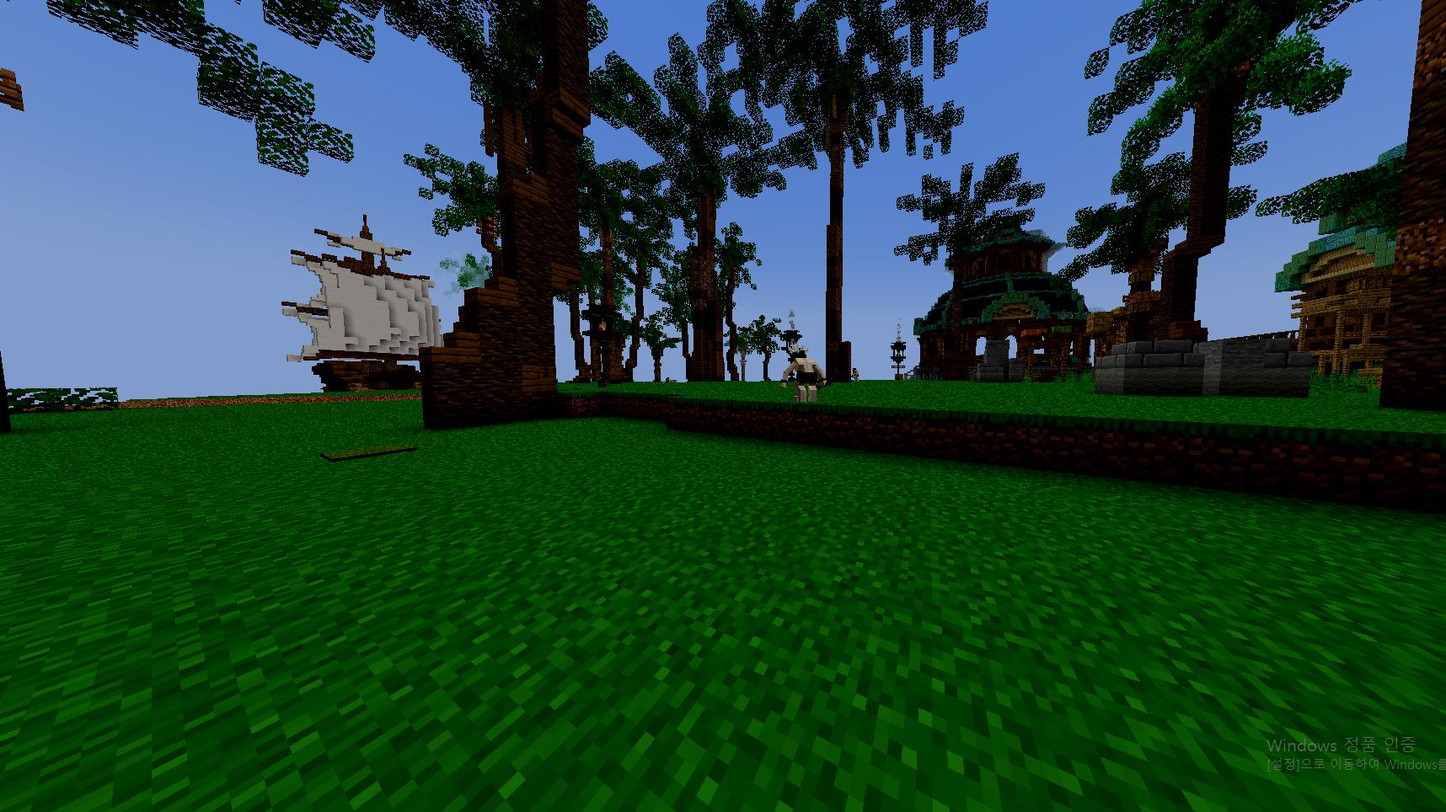bow_indian: (771, 332, 846, 417)
